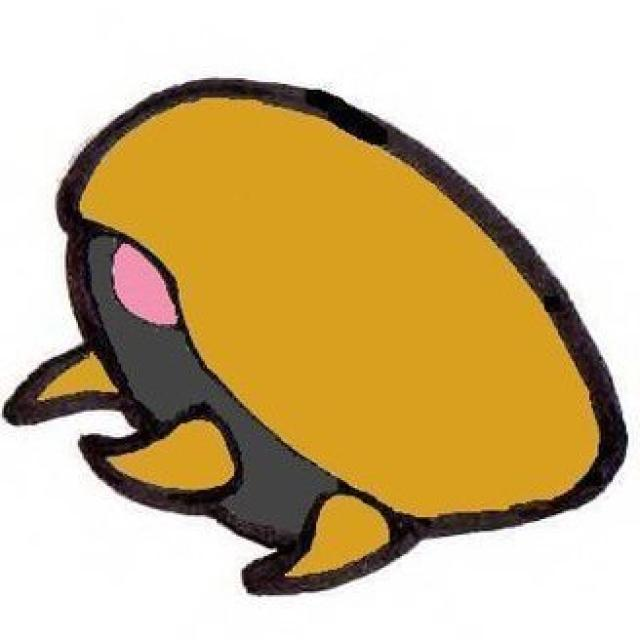Kabuto: (0, 66, 640, 611)
